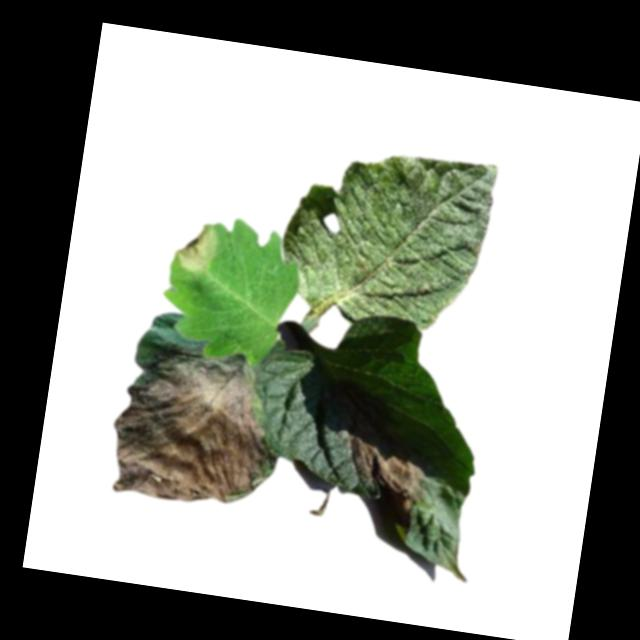Late_blight: (103, 339, 282, 516), (335, 434, 430, 535), (172, 218, 221, 276)
healthy: (274, 137, 499, 329)
